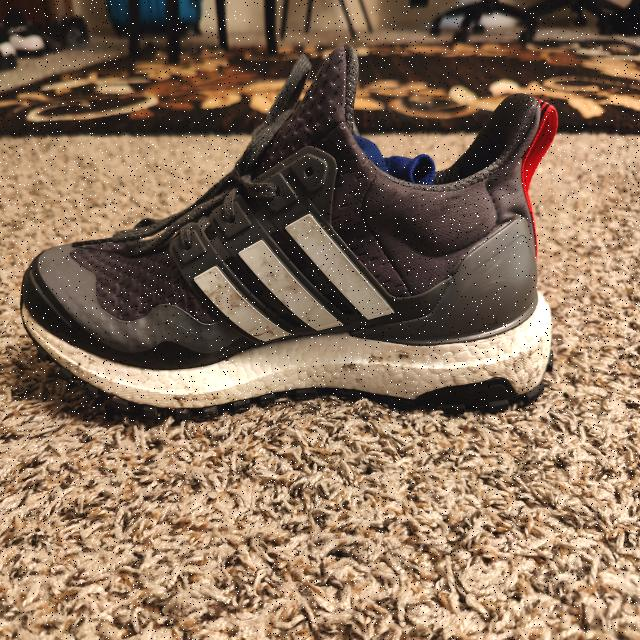black shoes: (73, 247, 541, 392)
